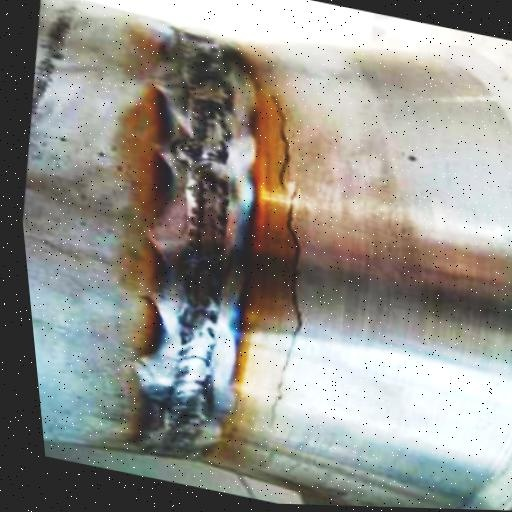crack: (212, 86, 380, 433)
